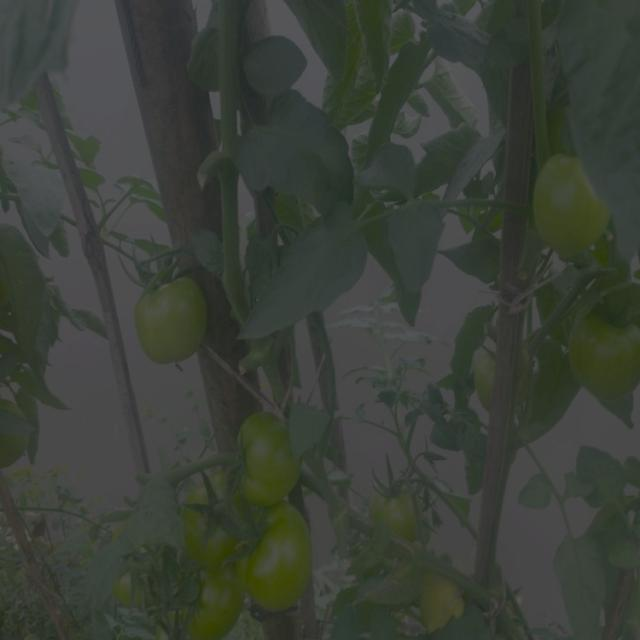tomato: (235, 497, 319, 618), (528, 143, 610, 240), (153, 550, 241, 639), (133, 273, 214, 365), (574, 285, 640, 392), (233, 408, 300, 503), (182, 471, 247, 566), (421, 565, 463, 628), (375, 483, 419, 533), (469, 340, 500, 395)
